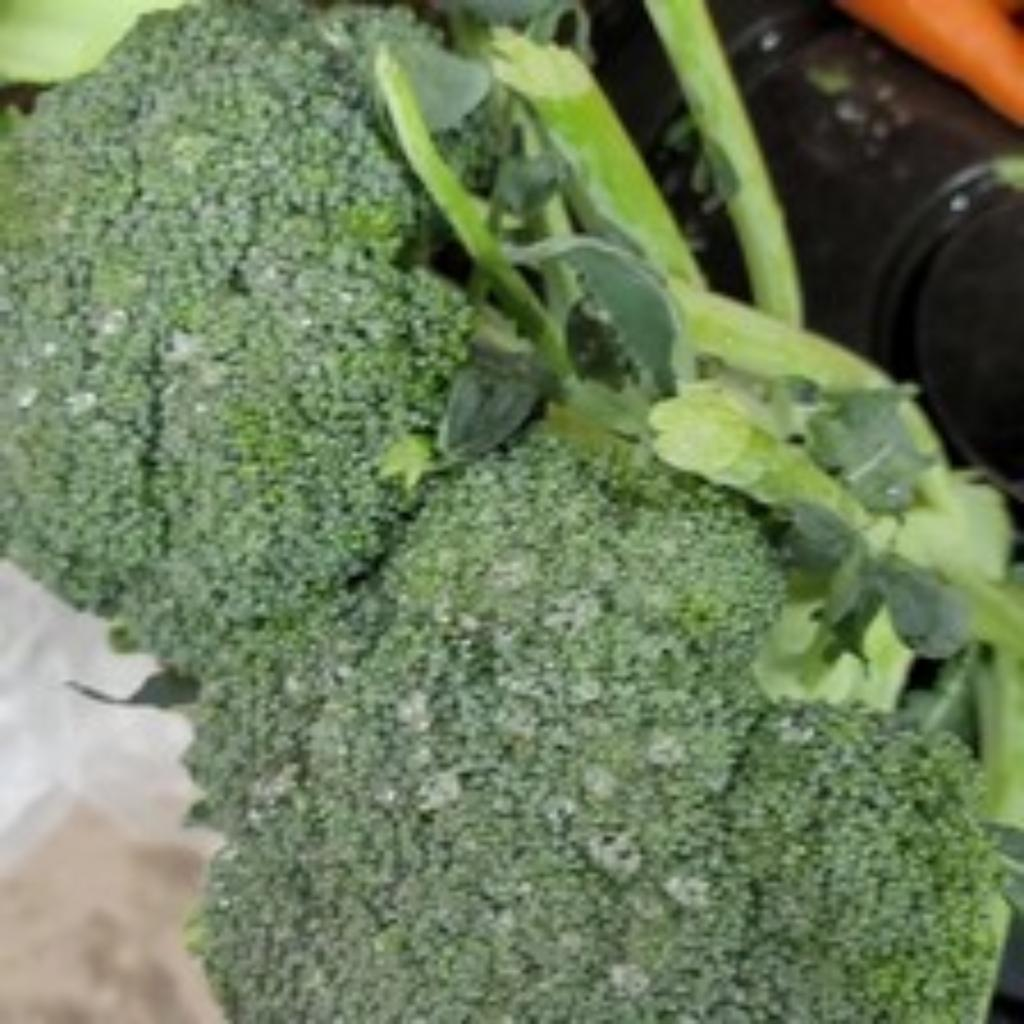Broccoli: (0, 4, 1002, 1024), (0, 4, 1000, 1024), (272, 506, 410, 619)
